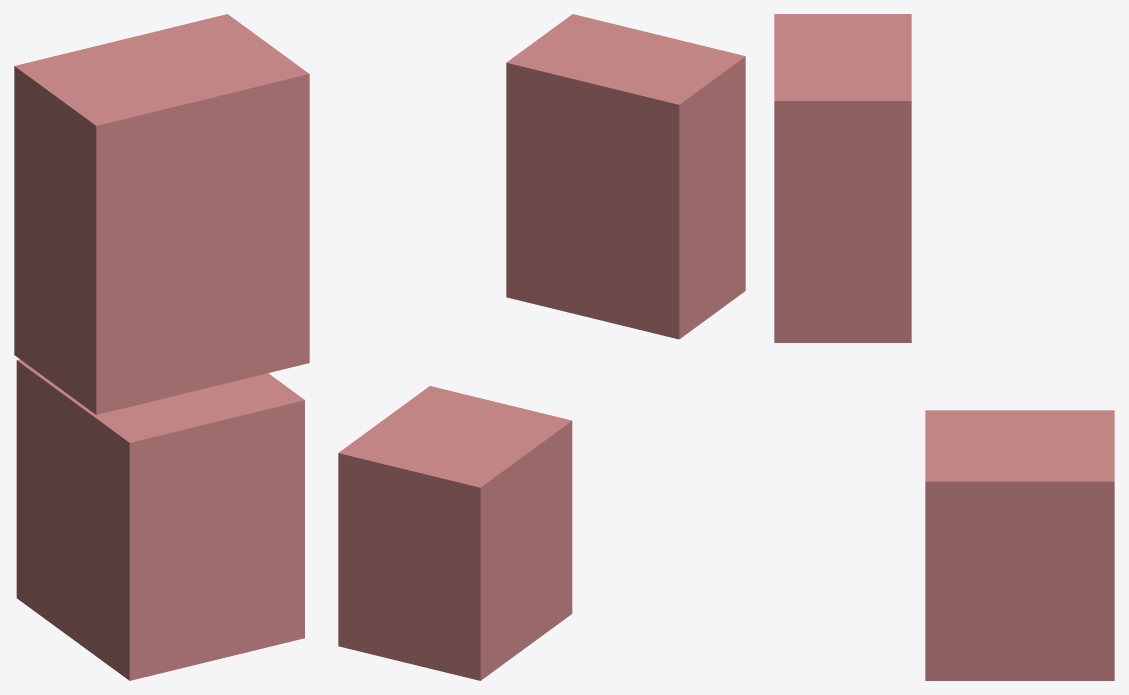
File: 239512_occ.glb
3 views of the same model, side by side, from view 1: azimuth 30°, elevation 25°; view 2: azimuth 150°, elevation 25°; view 3: azimuth 270°, elevation 25° (orthographic). The views are drawn at different scales.
Parts seen in each view (by area): view 1: world; view 2: world; view 3: world.
Boxes of the visible parts, left/top/right/bottom form: world: left=14, top=14, right=309, bottom=680; world: left=338, top=14, right=745, bottom=680; world: left=774, top=14, right=1114, bottom=680.
Size of the model in its own units: 4.76 by 9.91 by 5.6.
